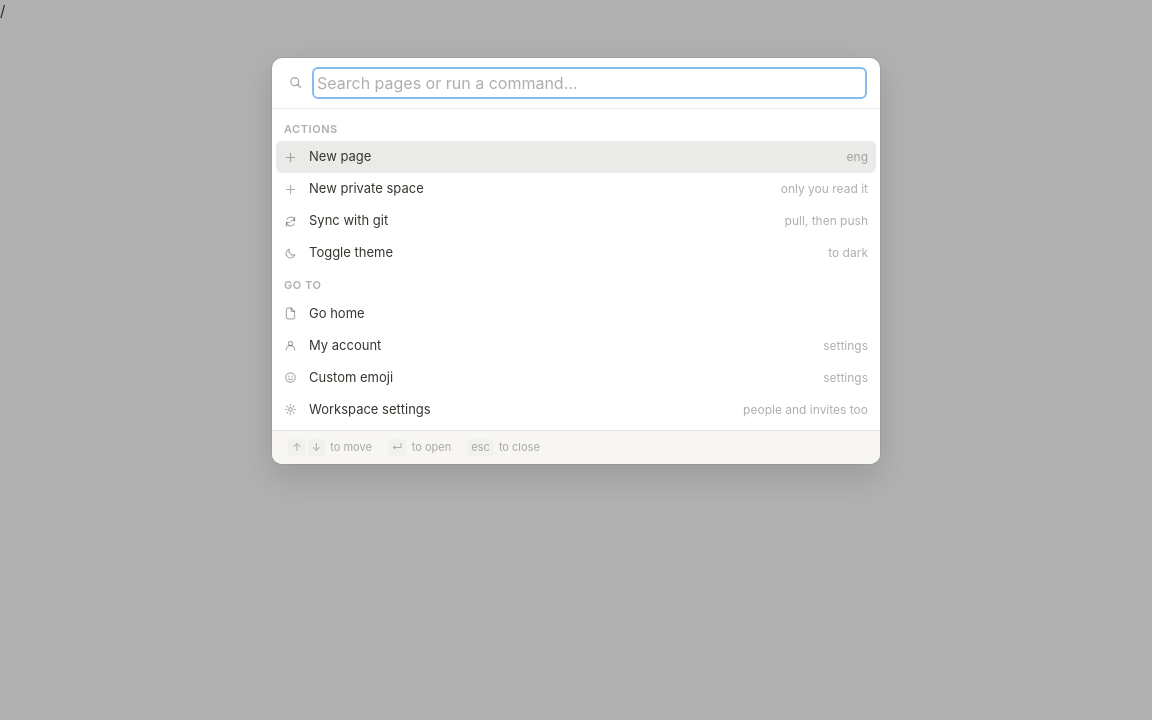
Test: CommandPalette › reports no matches when nothing scores
In the dropdown: (590, 83) [315,70,864,96], type "zzqqxx"
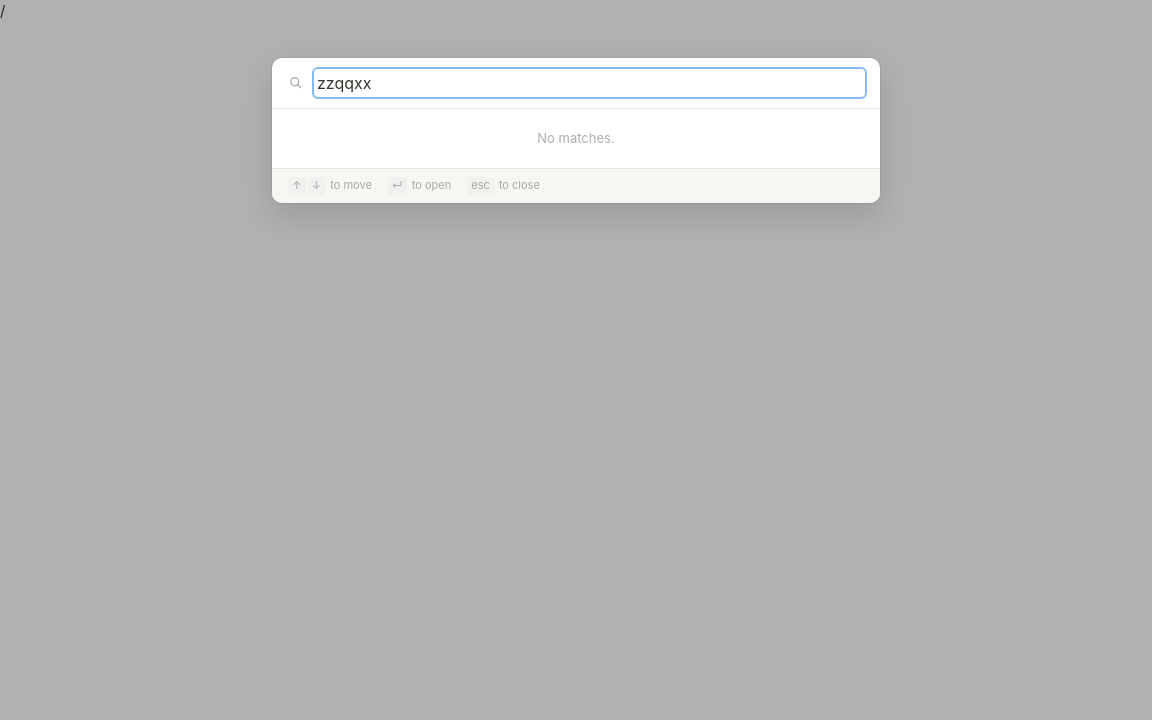
Result: the text "No matches." is shown at [537,130,615,146]
Result: no options are shown
